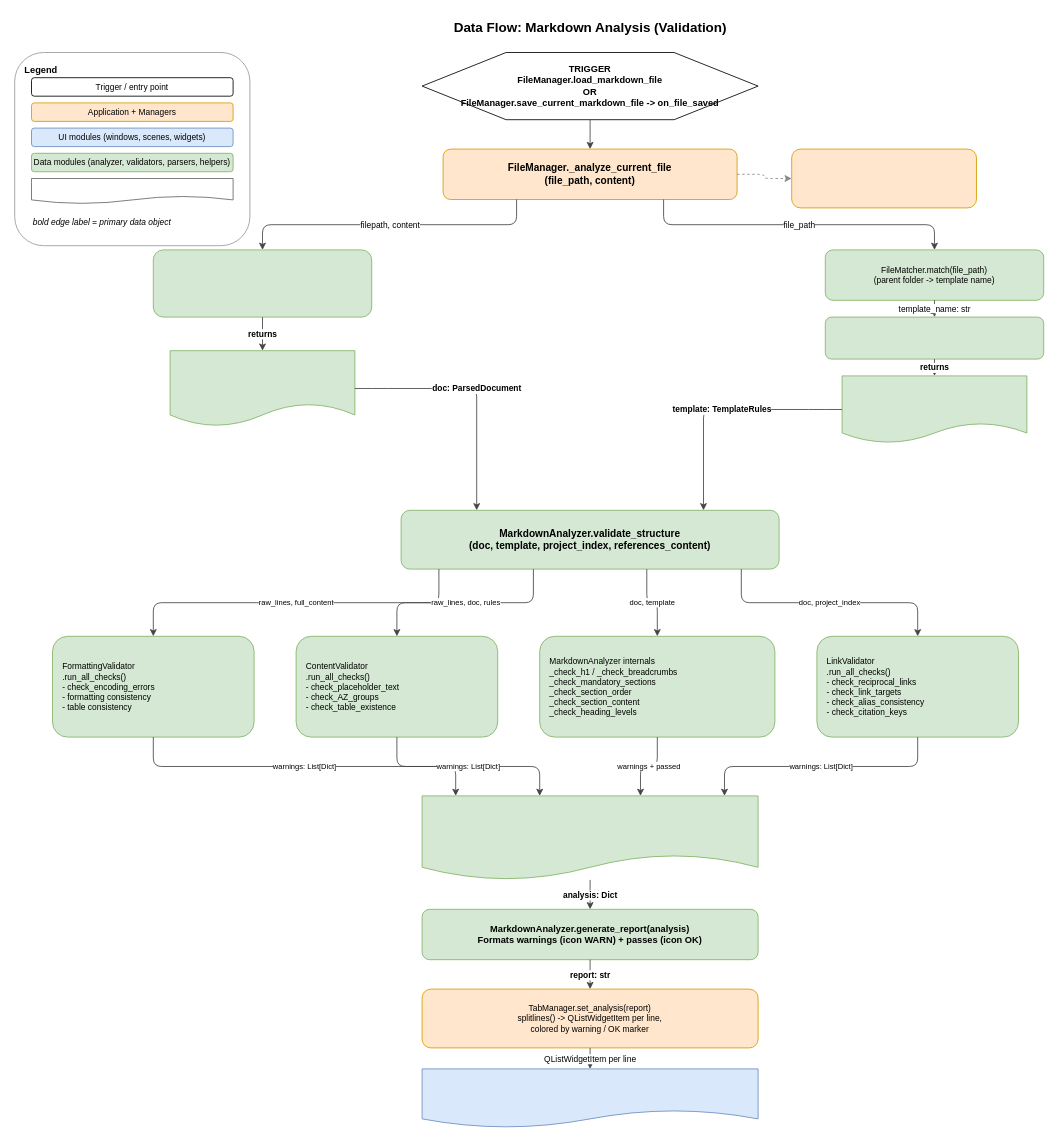
This 1058x1142 diagram has some shape labels left out. Here are the shapes that lost their labels. From the top down, the centre of each, then its label:
At (x=132, y=191): "Data object (document shape)".
At (x=883, y=178): "TabManager.set_loading (shows 'Analyzing...' in analyzer_list)".
At (x=262, y=283): "MarkdownParser.parse_content (walks lines, builds headings, classifies content)".
At (x=934, y=337): "TemplateParser.get_template (template_name)".
At (x=262, y=388): "ParsedDocument { meta: DocumentMeta, headings: List[HeadingInfo] }".
At (x=934, y=409): "TemplateRules { doc_rules, heading_rules, content_rules }".
At (x=589, y=837): "analysis: Dict { file: str, warnings: List[{line, msg}], passed: List[str] }".
At (x=589, y=1098): "TabWidget.analyzer_list (QListWidget) analyzer panel below editor + preview".
